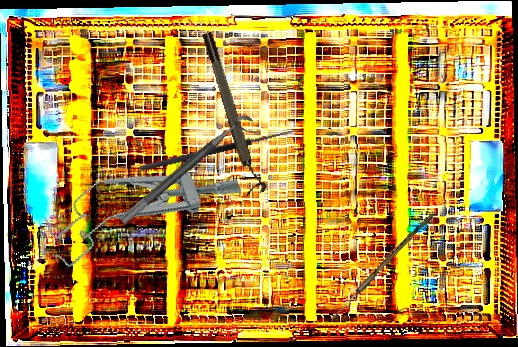Fixation Ring: (118, 110, 261, 237), (199, 29, 268, 197)
Hook Surgical: (137, 118, 297, 174)
Speculum: (36, 137, 247, 272)
Surgical Spoon: (329, 210, 435, 323)
